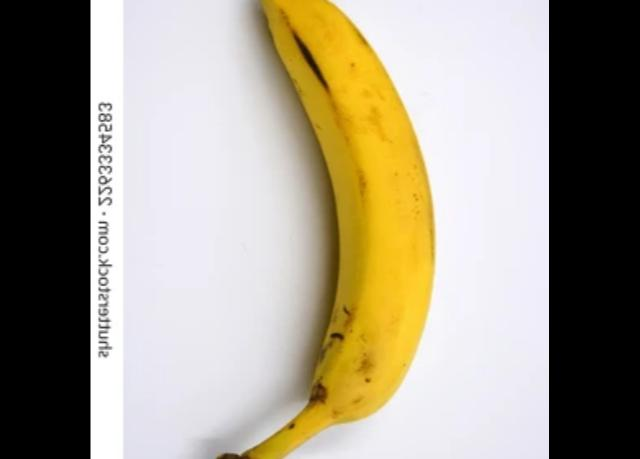Bananas: (212, 0, 437, 459)
